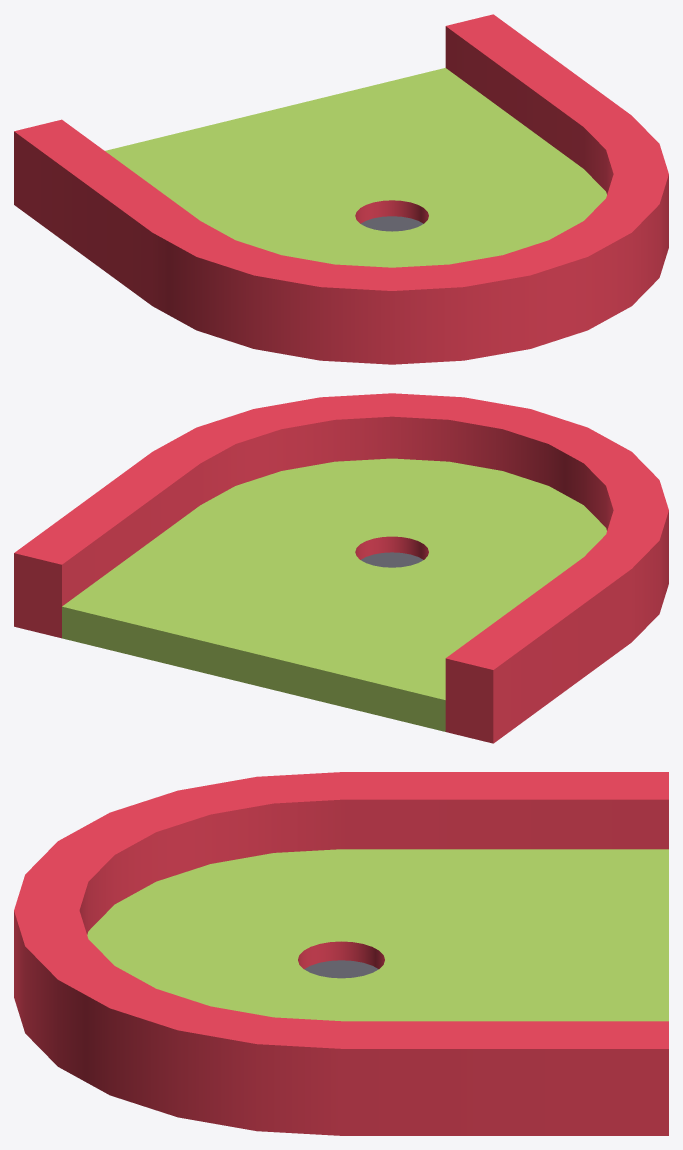
Rendered from holeRound.fbx.
The picture shows the model from 3 angles, top to bottom: view 1: azimuth 30°, elevation 25°; view 2: azimuth 150°, elevation 25°; view 3: azimuth 270°, elevation 25°; orthographic projection. The views are drawn at different scales.
Visible parts, largest first — view 1: holeRound; view 2: holeRound; view 3: holeRound.
Part boxes in pixels (box(x1,y1,x2,y2)): holeRound: box(14, 14, 668, 364); holeRound: box(14, 393, 668, 743); holeRound: box(14, 772, 668, 1135).
Size of the model in its own units: 10 by 1.47 by 10.
